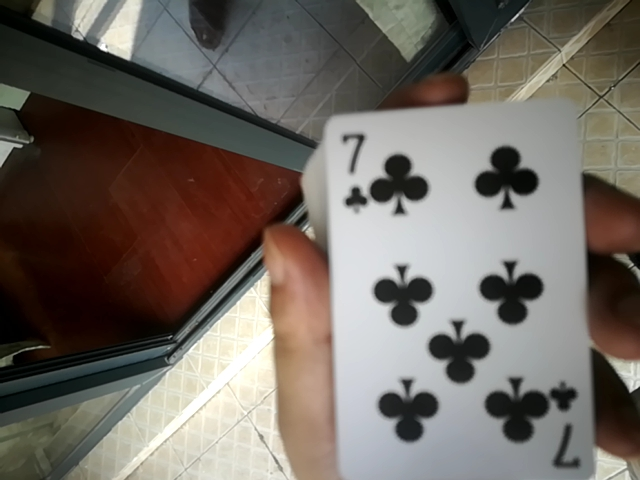mh 7: (303, 106, 614, 475)
